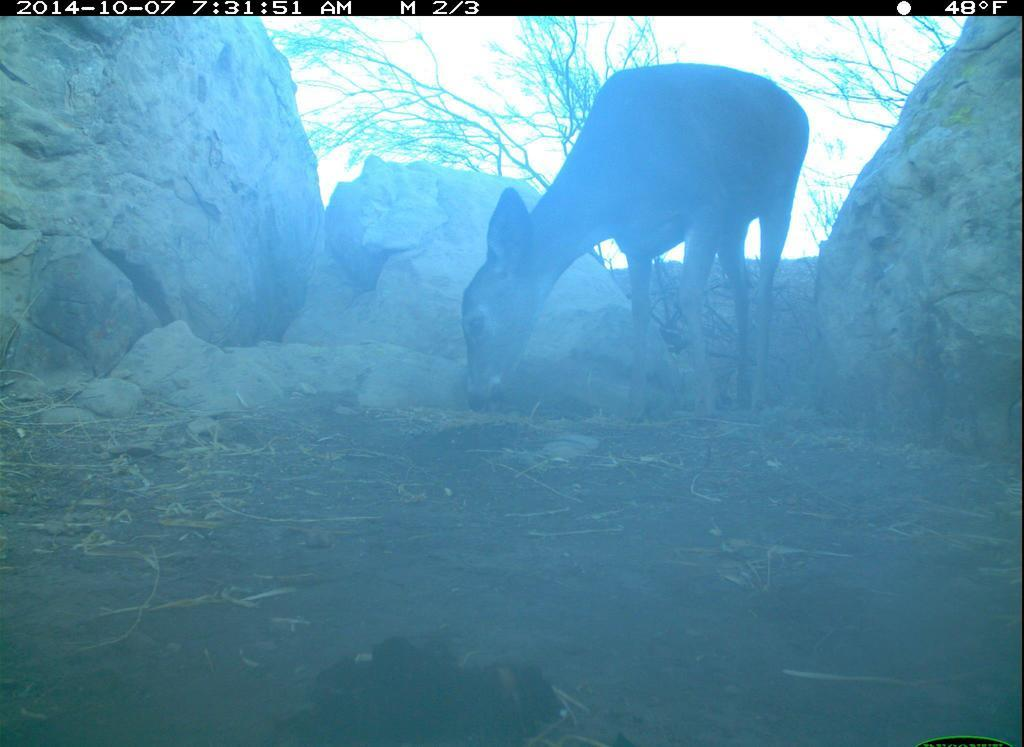deer: (450, 54, 816, 433)
